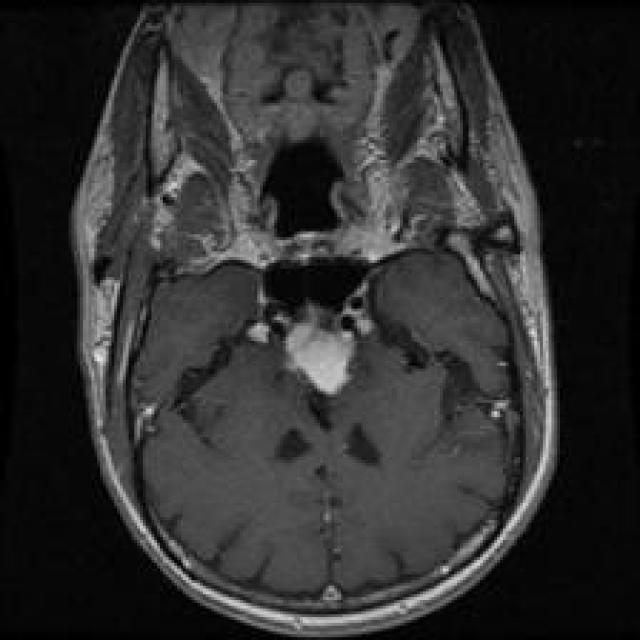meningioma_tumor: (261, 306, 387, 399)
